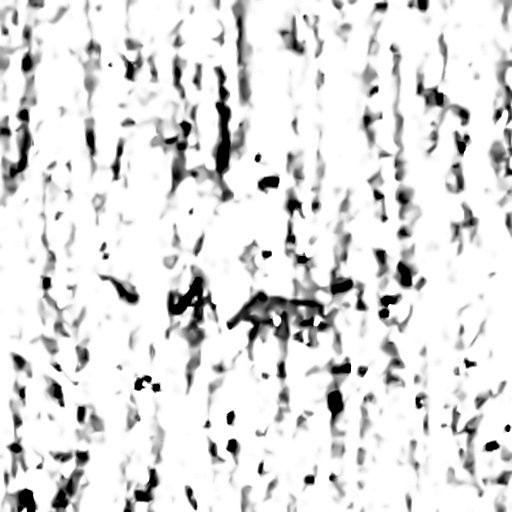egg: (169, 277, 201, 313), (215, 101, 229, 174), (21, 489, 34, 511)
